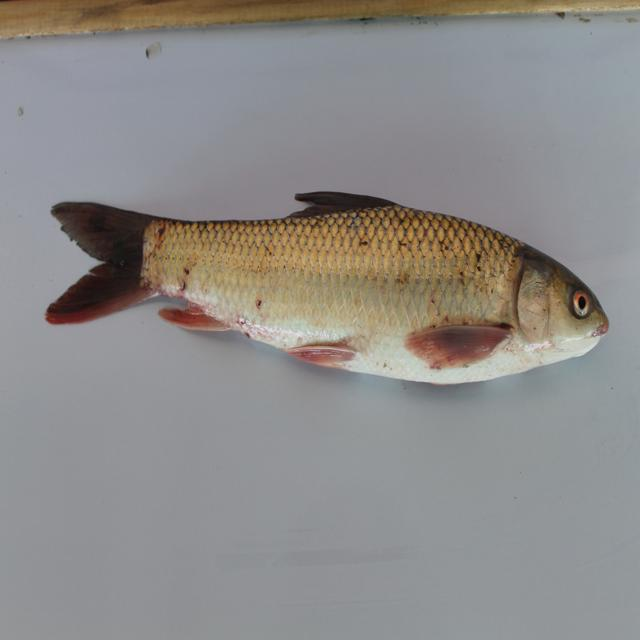Mori: (42, 190, 612, 391)
